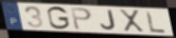3: (24, 6, 44, 29)
G: (45, 5, 71, 31)
J: (100, 9, 118, 32)
L: (144, 10, 168, 34)
P: (69, 6, 94, 31)
X: (118, 8, 146, 33)
